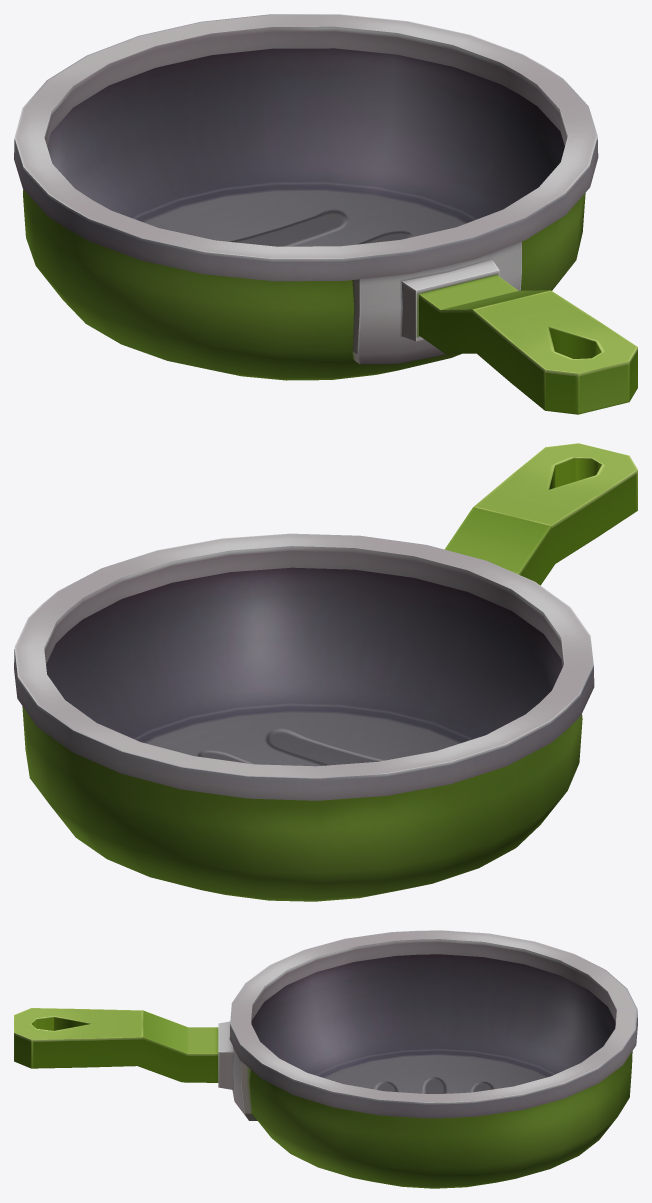
Rendered from 世界餐厅-道具-C级锅.FBX.
3 renders of one model, top to bottom at view 1: azimuth 30°, elevation 25°; view 2: azimuth 150°, elevation 25°; view 3: azimuth 270°, elevation 25°, orthographic. The views are drawn at different scales.
Parts seen in each view (by area): view 1: 世界餐厅-道具-C级锅; view 2: 世界餐厅-道具-C级锅; view 3: 世界餐厅-道具-C级锅.
Part boxes in pixels (<box>): 世界餐厅-道具-C级锅: <box>14,14,637,414</box>; 世界餐厅-道具-C级锅: <box>14,443,637,901</box>; 世界餐厅-道具-C级锅: <box>14,930,637,1188</box>.
Size of the model in its own units: 38.83 by 13.32 by 59.17.
